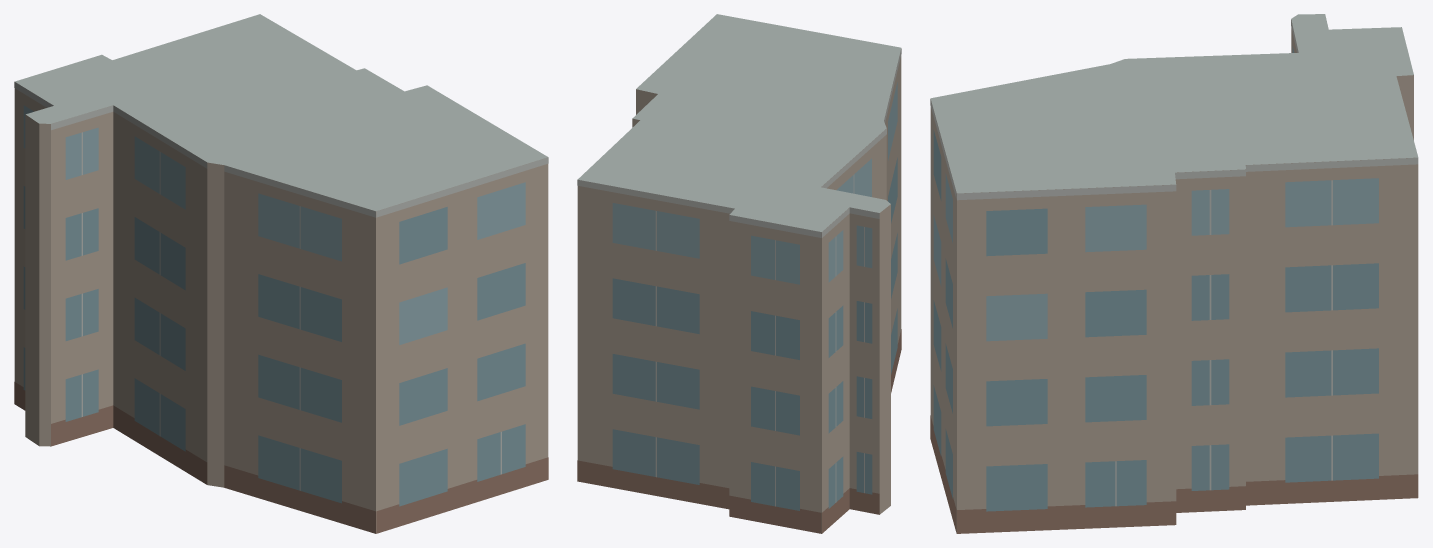
Rendered from survey-upis-32748714.glb.
3 views of the same model, side by side, from view 1: azimuth 30°, elevation 25°; view 2: azimuth 150°, elevation 25°; view 3: azimuth 270°, elevation 25° (orthographic). The views are drawn at different scales.
Visible parts, largest first — view 1: survey-upis-32748714.tmp; view 2: survey-upis-32748714.tmp; view 3: survey-upis-32748714.tmp.
Part boxes in pixels (<box>): survey-upis-32748714.tmp: <box>14,14,548,533</box>; survey-upis-32748714.tmp: <box>577,14,901,533</box>; survey-upis-32748714.tmp: <box>930,14,1418,533</box>.
Size of the model in its own units: 13.8 by 12.2 by 15.86.
